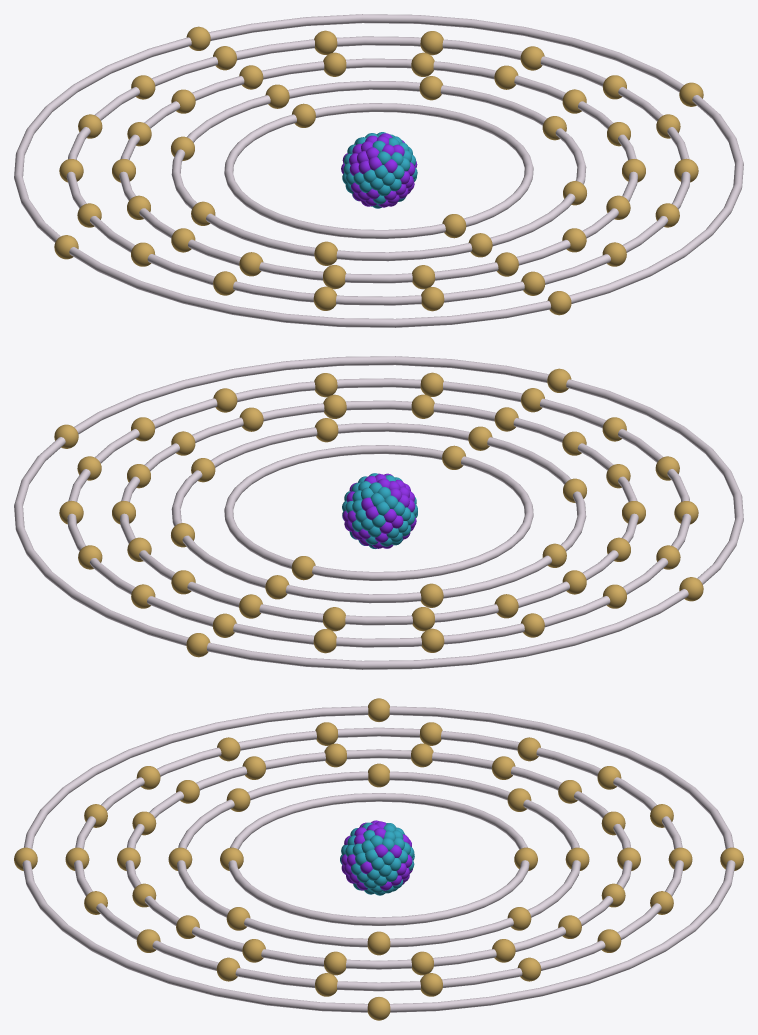
File: estanho.glb
The picture shows the model from 3 angles, top to bottom: view 1: azimuth 30°, elevation 25°; view 2: azimuth 150°, elevation 25°; view 3: azimuth 270°, elevation 25°; orthographic projection. The views are drawn at different scales.
Parts seen in each view (by area): view 1: Orbita_5, Orbita_4, Orbita_3, Orbita_2, Orbita_1, Nucleo_Completo; view 2: Orbita_5, Orbita_4, Orbita_3, Orbita_2, Orbita_1, Nucleo_Completo; view 3: Orbita_5, Orbita_4, Orbita_3, Orbita_2, Orbita_1, Nucleo_Completo.
Part boxes in pixels (x1,y1,x2,y2): Orbita_5: (14, 14, 743, 327); Orbita_4: (66, 36, 690, 305); Orbita_3: (119, 58, 637, 283); Orbita_2: (171, 80, 586, 261); Orbita_1: (224, 103, 533, 238); Nucleo_Completo: (341, 132, 417, 208); Orbita_5: (14, 356, 743, 669); Orbita_4: (67, 378, 691, 647); Orbita_3: (120, 400, 638, 625); Orbita_2: (171, 422, 586, 603); Orbita_1: (224, 445, 533, 580); Nucleo_Completo: (342, 473, 417, 548); Orbita_5: (22, 706, 735, 1012); Orbita_4: (74, 727, 683, 991); Orbita_3: (125, 749, 632, 969); Orbita_2: (177, 771, 580, 947); Orbita_1: (228, 793, 529, 925); Nucleo_Completo: (340, 820, 414, 895).
Size of the model in its own units: 4.96 by 0.5086 by 4.96.
